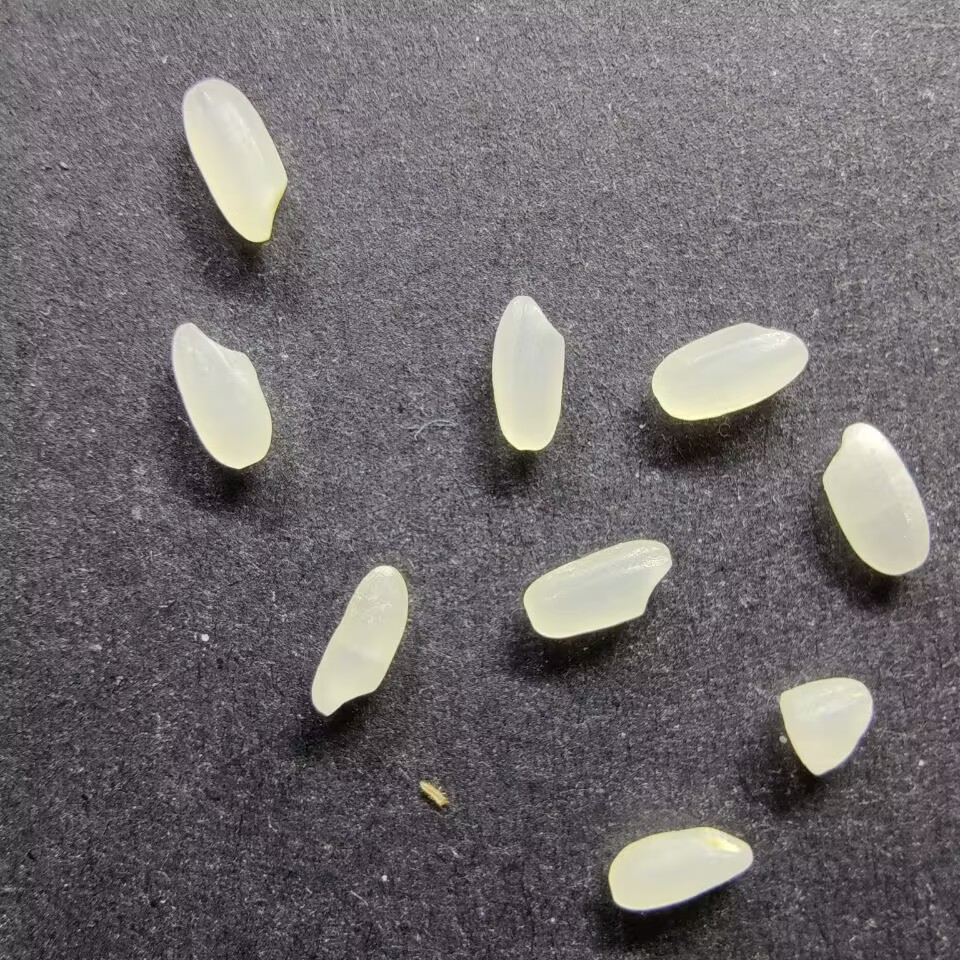broken: (777, 675, 875, 777)
others: (416, 779, 450, 810)
rice: (180, 77, 289, 244), (820, 421, 932, 575), (649, 320, 810, 421), (168, 319, 272, 472), (520, 538, 673, 640), (309, 564, 409, 720), (607, 825, 754, 912), (489, 293, 567, 453)
